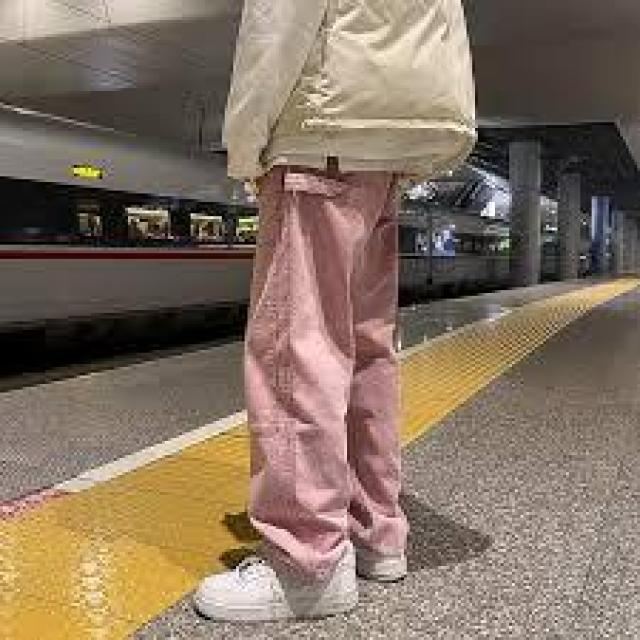pants: (221, 153, 454, 578)
